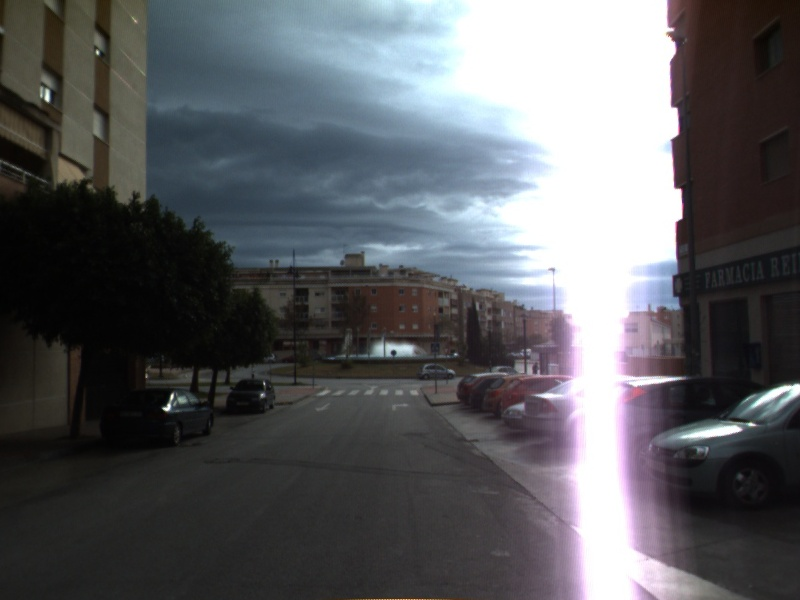RIGHT: (390, 400, 411, 413)
